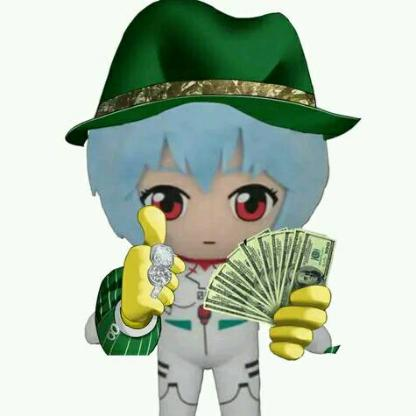rei-plush: (81, 93, 326, 415)
